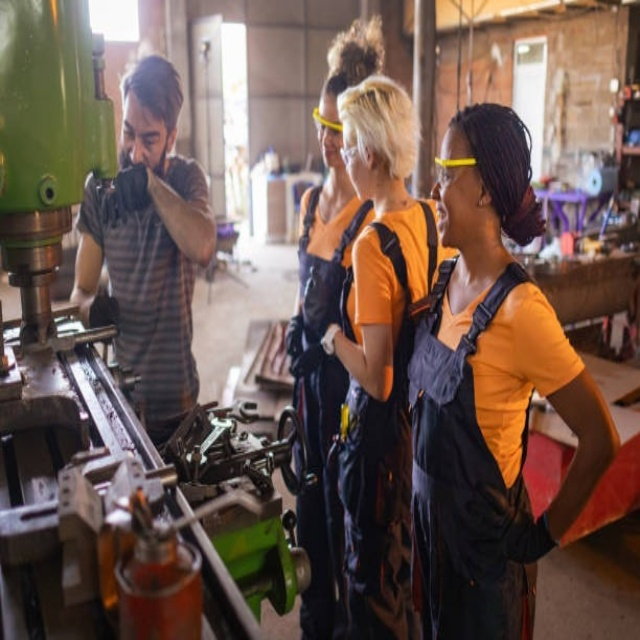Gafas: (433, 146, 478, 188), (310, 104, 343, 133), (339, 138, 363, 162)
Guantes: (460, 469, 566, 573), (301, 262, 350, 358), (97, 158, 163, 221), (79, 278, 120, 336)
Sin_gafas: (122, 113, 160, 147)
Sin_mascara: (432, 193, 455, 240), (317, 136, 336, 166)
